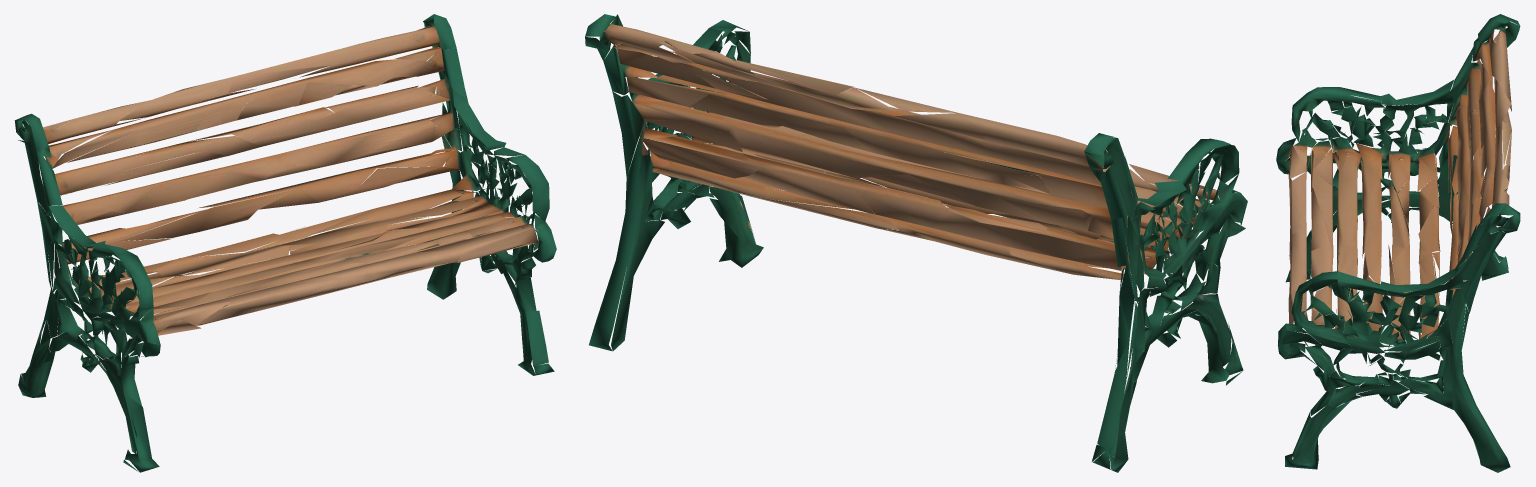
File: cp_bench.glb
3 renders of one model, left to right at view 1: azimuth 30°, elevation 25°; view 2: azimuth 150°, elevation 25°; view 3: azimuth 270°, elevation 25°, orthographic. The views are drawn at different scales.
Visible parts, largest first — view 1: tripo_node_898a3326-af9d-4f30-8cda-f0e14c94b4b4; view 2: tripo_node_898a3326-af9d-4f30-8cda-f0e14c94b4b4; view 3: tripo_node_898a3326-af9d-4f30-8cda-f0e14c94b4b4.
Part boxes in pixels (box(x1,y1,x2,y2)): tripo_node_898a3326-af9d-4f30-8cda-f0e14c94b4b4: box(14, 14, 556, 472); tripo_node_898a3326-af9d-4f30-8cda-f0e14c94b4b4: box(585, 14, 1247, 472); tripo_node_898a3326-af9d-4f30-8cda-f0e14c94b4b4: box(1276, 14, 1520, 472).
Size of the model in its own units: 0.9996 by 0.6183 by 0.5214.
Materials: 1 (1 with a texture image).
